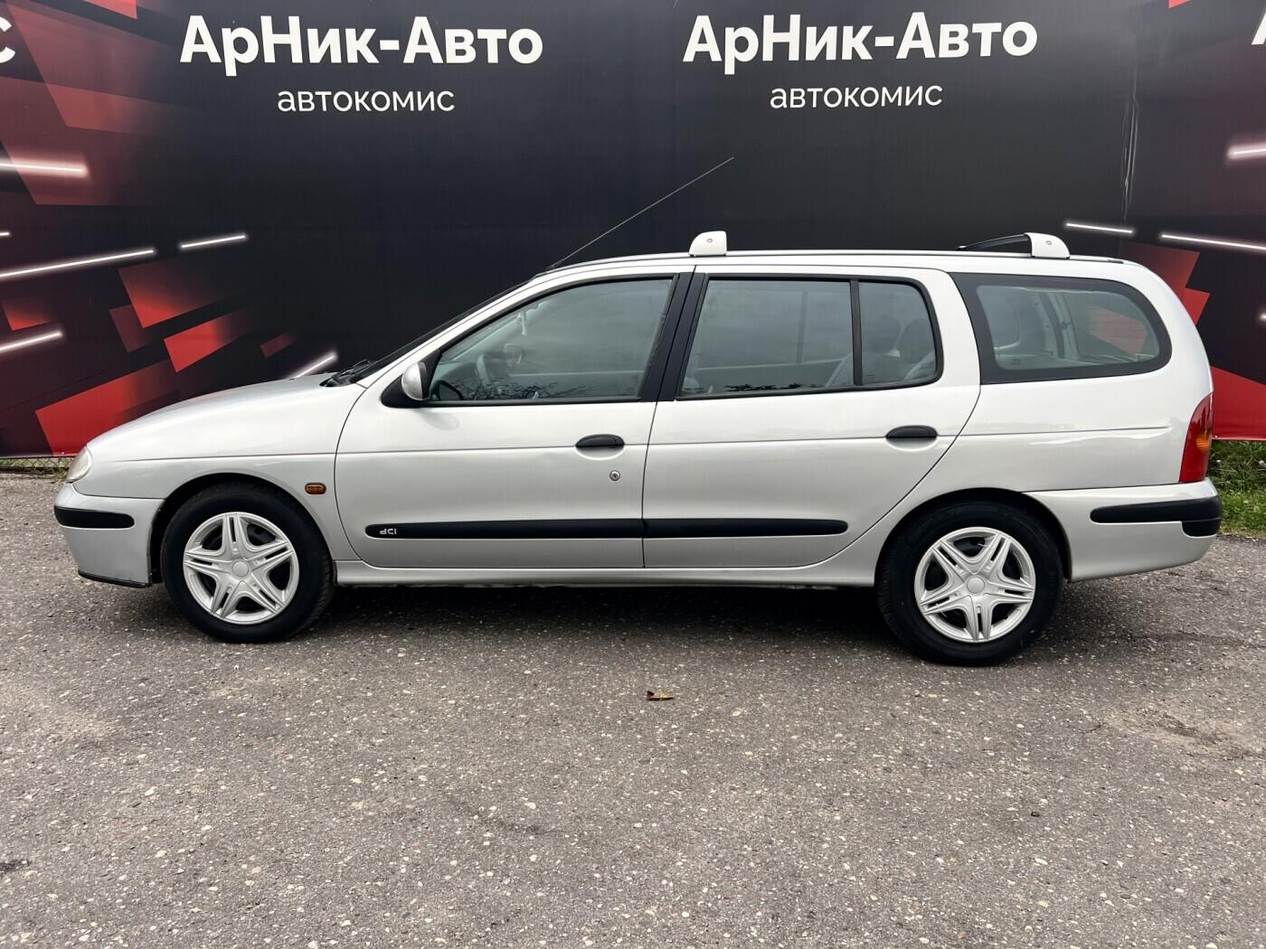Megane_1999-2003: (48, 238, 1229, 668)
